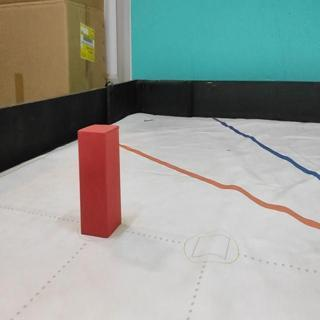redbox: (76, 122, 121, 238)
